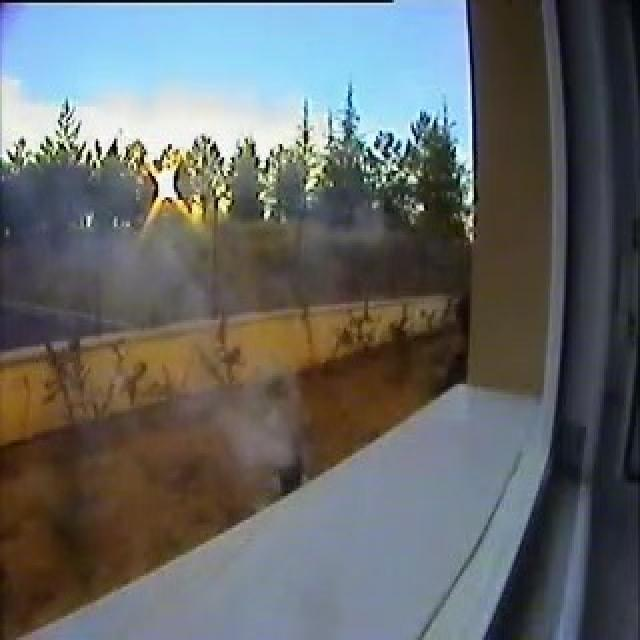smoke: (200, 380, 291, 460)
